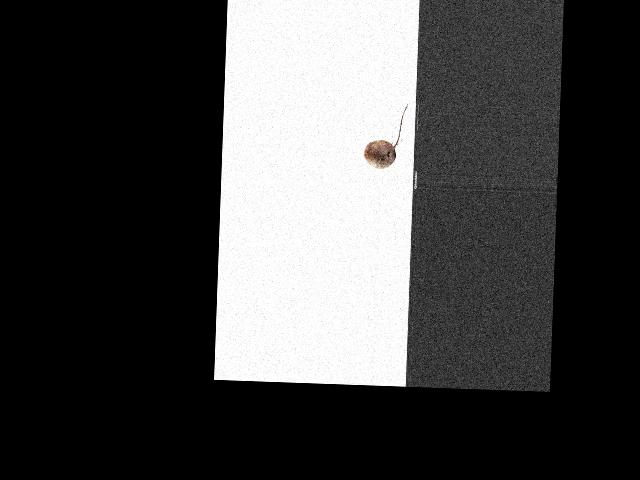beet: (364, 101, 408, 169)
